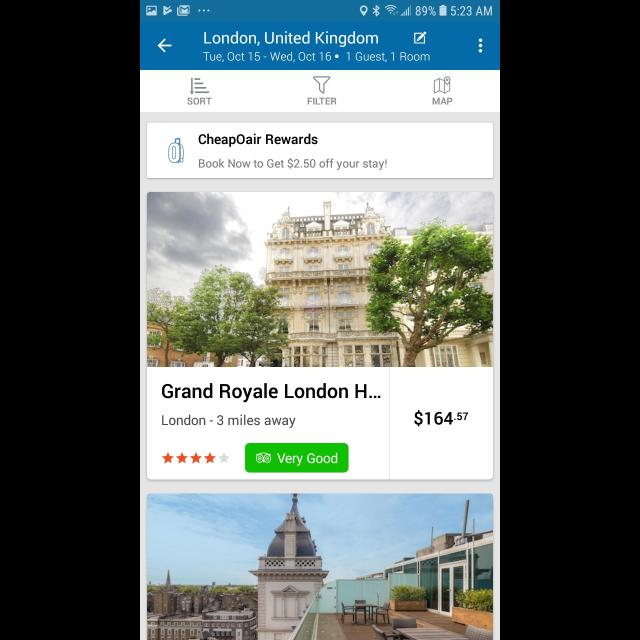icon: (162, 452, 230, 463), (190, 78, 210, 94), (434, 76, 451, 94), (158, 38, 172, 54), (414, 32, 426, 44), (478, 36, 482, 52)
image: (147, 192, 493, 368), (147, 494, 493, 640), (168, 137, 184, 163), (313, 76, 331, 94)
text: (163, 383, 381, 402), (204, 32, 378, 48), (202, 52, 430, 64), (199, 158, 387, 170), (162, 415, 296, 429), (198, 133, 318, 147), (414, 409, 468, 426), (188, 98, 212, 106), (308, 98, 337, 104), (432, 98, 452, 104)
textbutton: (245, 443, 349, 473)
uppertaskbar: (140, 1, 500, 22)
